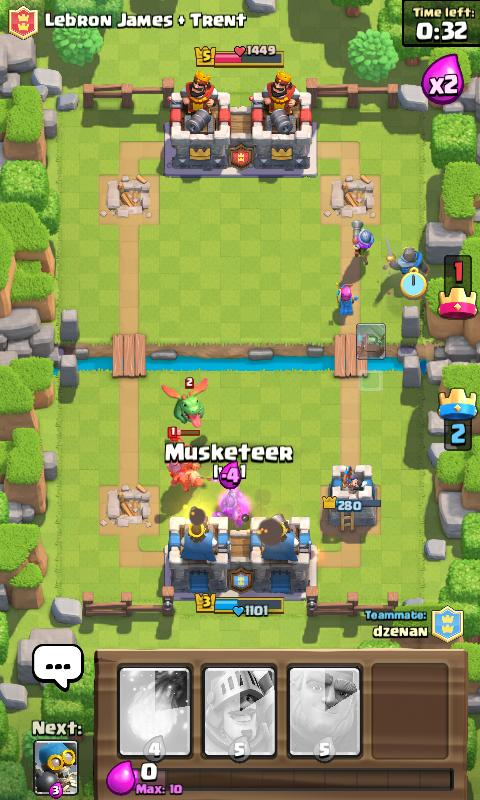ally_archer: (333, 280, 359, 317)
ally_knight: (384, 233, 430, 278)
ally_musketeer: (350, 218, 373, 265)
enemy_baby_dragon: (159, 376, 209, 428)
enemy_prince: (163, 426, 204, 492)
